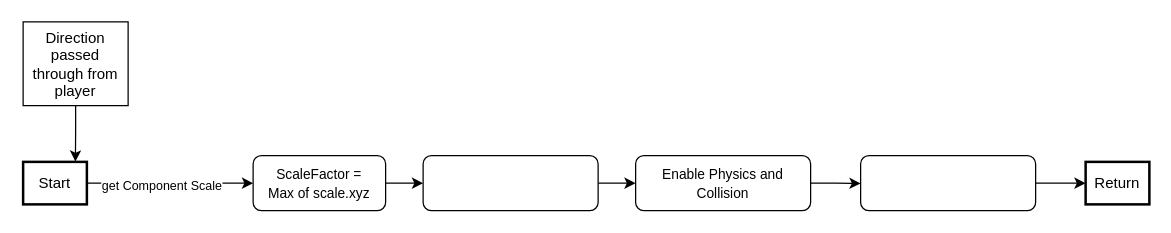
Image size: 1171x233. Some labels were removed from this diagram. The shapes that lost their labels are listed below. From the top down, each one's box as (x1, y1, x2, y2) in pixels, then its label:
(422, 154, 598, 211): Impulse = 250,000 * ScaleFactor
(859, 154, 1036, 211): Apply Impulse
